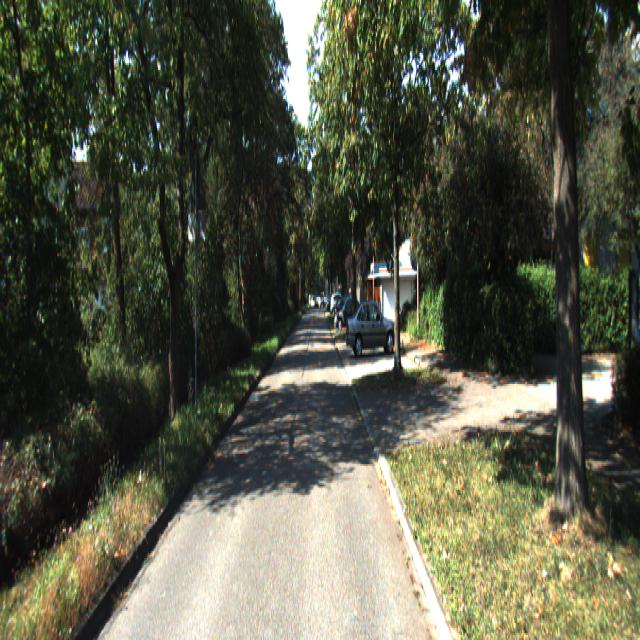Car: (346, 293, 399, 354), (334, 295, 362, 331)
